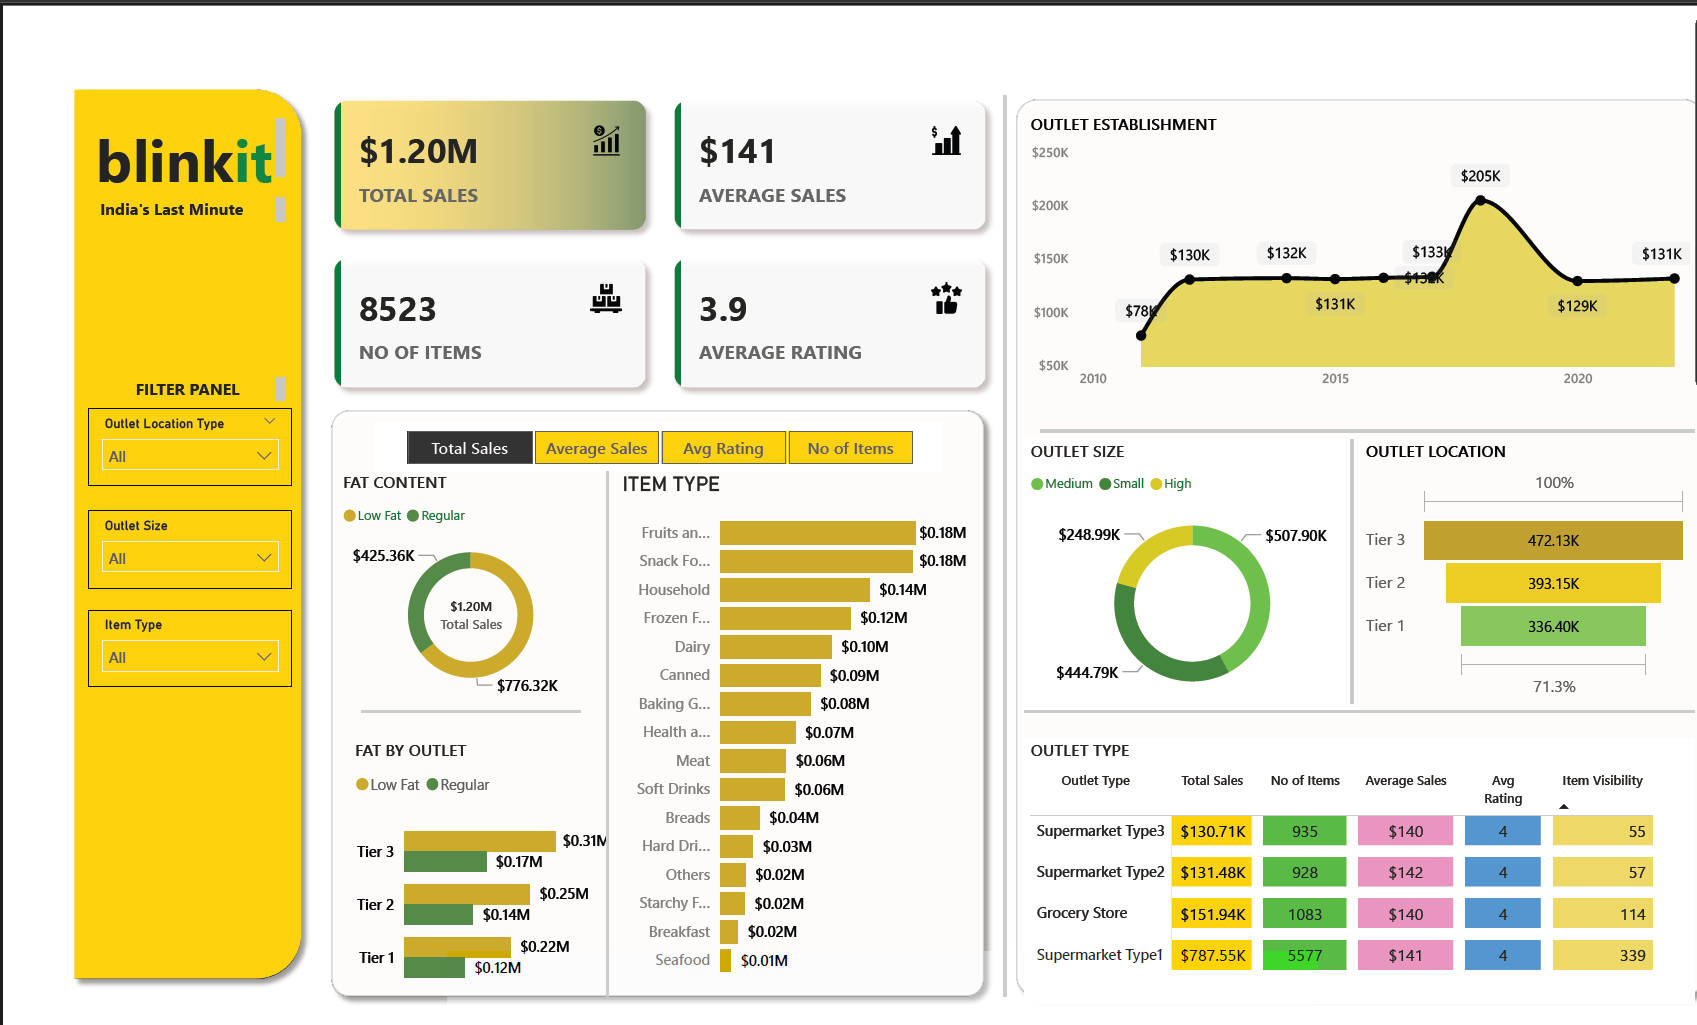

What the dashboard file says about the page in this screenshot:
{"tool":"powerbi","page":{"name":"Page 1","canvas":[1400,800],"ordinal":0},"visuals":[{"type":"shape","box":[801.4,44.3,584.3,755.7],"z":0},{"type":"shape","box":[26,36,205,750],"z":1000},{"type":"textbox","box":[45.7,64.3,167.1,64.3],"z":2000},{"type":"textbox","box":[51.4,128.6,161.4,30],"z":3000},{"type":"cardVisual","fields":{"Data":["BlinkIT Grocery Data.Total Sales","BlinkIT Grocery Data.Average Sales","BlinkIT Grocery Data.No of Items","BlinkIT Grocery Data.Avg Rating"]},"box":[231.7,36.7,570,270],"z":4000},{"type":"shape","box":[238.3,300,555,500],"z":5000},{"type":"donutChart","title":"FAT CONTENT","fields":{"Y":["BlinkIT Grocery Data.Total Sales"],"Category":["BlinkIT Grocery Data.Item Fat Content"]},"box":[251.1,358.9,220,193.3],"z":6000},{"type":"slicer","fields":{"Values":["metrics.metrics"]},"box":[282.9,318.6,465.7,40],"z":7000},{"type":"cardVisual","fields":{"Data":["BlinkIT Grocery Data.Total Sales"]},"box":[314.3,445.7,94.3,54.3],"z":8000},{"type":"clusteredBarChart","title":"FAT BY OUTLET","fields":{"Y":["BlinkIT Grocery Data.Total Sales"],"Category":["BlinkIT Grocery Data.Outlet Location Type"],"Series":["BlinkIT Grocery Data.Item Fat Content"]},"box":[261.4,578.6,220,221.4],"z":9000},{"type":"shape","box":[271.4,550,180,14.3],"z":10000},{"type":"shape","box":[465.7,358.6,15.7,432.9],"z":11000},{"type":"barChart","title":"ITEM TYPE","fields":{"Y":["BlinkIT Grocery Data.Total Sales"],"Category":["BlinkIT Grocery Data.Item Type"]},"box":[481.4,358.6,292.9,427.1],"z":12000},{"type":"lineChart","title":"OUTLET ESTABLISHMENT","fields":{"Y":["BlinkIT Grocery Data.Total Sales"],"Category":["BlinkIT Grocery Data.Outlet Establishment Year"]},"box":[817.1,64.3,551.4,235.7],"z":13000},{"type":"shape","box":[791.4,50,20,741.4],"z":14000},{"type":"shape","box":[830,318.6,538.6,14.3],"z":15000},{"type":"donutChart","title":"OUTLET SIZE","fields":{"Y":["BlinkIT Grocery Data.Total Sales"],"Category":["BlinkIT Grocery Data.Outlet Size"]},"box":[817.1,332.9,275.7,225.7],"z":16000},{"type":"shape","box":[1080,332.9,12.9,217.1],"z":17000},{"type":"funnel","title":"OUTLET LOCATION","fields":{"Y":["Sum(BlinkIT Grocery Data.Sales)"],"Category":["BlinkIT Grocery Data.Outlet Location Type"]},"box":[1092.9,332.9,275.7,218.6],"z":18000},{"type":"pivotTable","title":"OUTLET TYPE","fields":{"Values":["BlinkIT Grocery Data.Total Sales","BlinkIT Grocery Data.No of Items","BlinkIT Grocery Data.Average Sales","BlinkIT Grocery Data.Avg Rating","Sum(BlinkIT Grocery Data.Item Visibility)"],"Rows":["BlinkIT Grocery Data.Outlet Type"]},"box":[817.1,578.6,551.4,218.6],"z":19000},{"type":"shape","box":[817.1,550,551.4,14.3],"z":20000},{"type":"slicer","fields":{"Values":["BlinkIT Grocery Data.Outlet Location Type"]},"box":[45.7,307.1,168.6,64.3],"z":21000},{"type":"slicer","fields":{"Values":["BlinkIT Grocery Data.Outlet Size"]},"box":[45.7,391.4,168.6,64.3],"z":22000},{"type":"slicer","fields":{"Values":["BlinkIT Grocery Data.Item Type"]},"box":[45.7,472.9,168.6,64.3],"z":23000},{"type":"textbox","box":[51.4,277.1,161.4,30],"z":24000}]}

Visuals, with their boxes on the page's 1400x800 design canvas (x1, y1, x2, y2). These are canvas units, not pixel positions in the 1697x1025 screenshot, which may show the page scaled, cropped or inside an application window:
shape: bbox=(801, 44, 1386, 800)
shape: bbox=(26, 36, 231, 786)
textbox: bbox=(46, 64, 213, 129)
textbox: bbox=(51, 129, 213, 159)
cardVisual - BlinkIT Grocery Data.Total Sales x BlinkIT Grocery Data.Average Sales: bbox=(232, 37, 802, 307)
shape: bbox=(238, 300, 793, 800)
"FAT CONTENT" donutChart: bbox=(251, 359, 471, 552)
slicer - metrics.metrics: bbox=(283, 319, 749, 359)
cardVisual - BlinkIT Grocery Data.Total Sales: bbox=(314, 446, 409, 500)
"FAT BY OUTLET" clusteredBarChart: bbox=(261, 579, 481, 800)
shape: bbox=(271, 550, 451, 564)
shape: bbox=(466, 359, 481, 792)
"ITEM TYPE" barChart: bbox=(481, 359, 774, 786)
"OUTLET ESTABLISHMENT" lineChart: bbox=(817, 64, 1368, 300)
shape: bbox=(791, 50, 811, 791)
shape: bbox=(830, 319, 1369, 333)
"OUTLET SIZE" donutChart: bbox=(817, 333, 1093, 559)
shape: bbox=(1080, 333, 1093, 550)
"OUTLET LOCATION" funnel: bbox=(1093, 333, 1369, 552)
"OUTLET TYPE" pivotTable: bbox=(817, 579, 1368, 797)
shape: bbox=(817, 550, 1368, 564)
slicer - BlinkIT Grocery Data.Outlet Location Type: bbox=(46, 307, 214, 371)
slicer - BlinkIT Grocery Data.Outlet Size: bbox=(46, 391, 214, 456)
slicer - BlinkIT Grocery Data.Item Type: bbox=(46, 473, 214, 537)
textbox: bbox=(51, 277, 213, 307)
